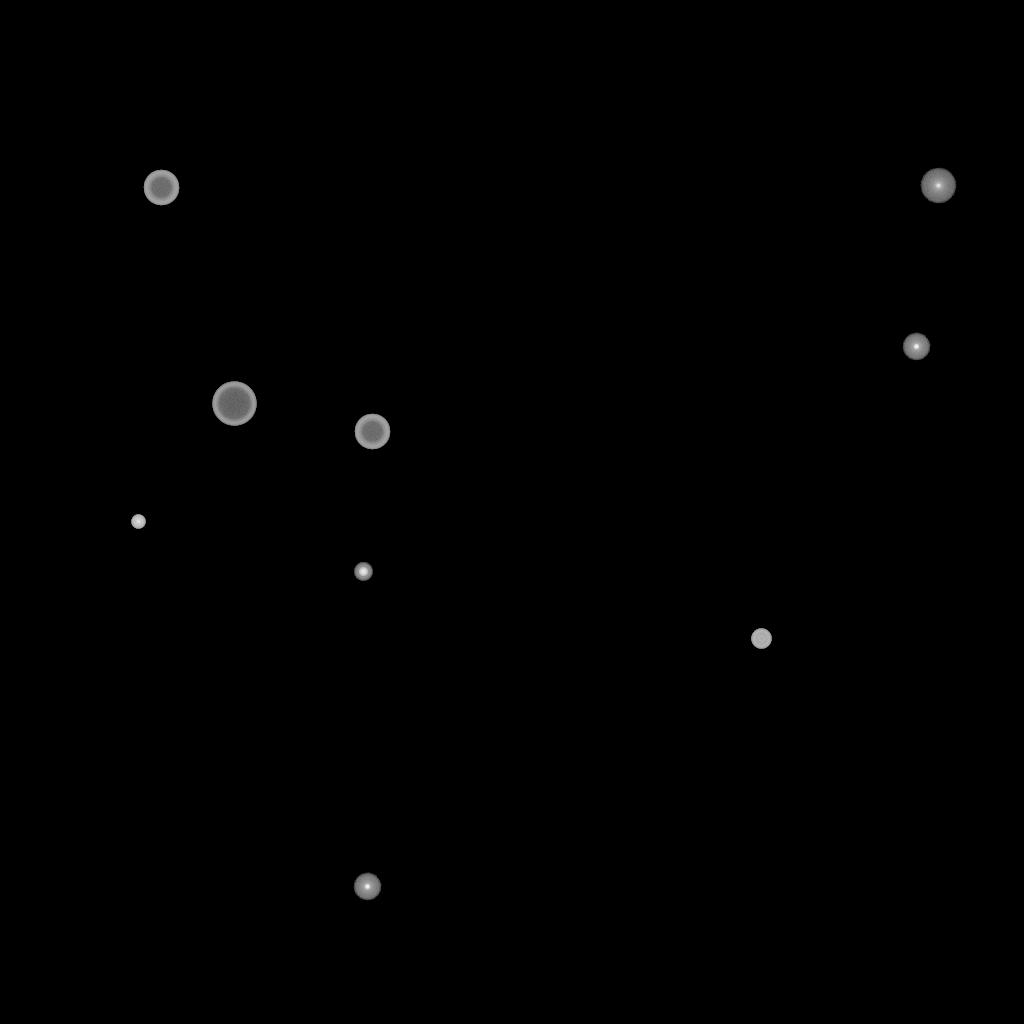depth:-10: (902, 333, 930, 361), (353, 873, 381, 901)
depth:-20: (354, 563, 372, 581)
depth:-30: (131, 515, 145, 529)
depth:-40: (751, 629, 771, 649)
depth:-60: (354, 414, 390, 450), (143, 170, 179, 206)
depth:-70: (212, 382, 256, 426)
depth:0: (920, 168, 956, 204)
